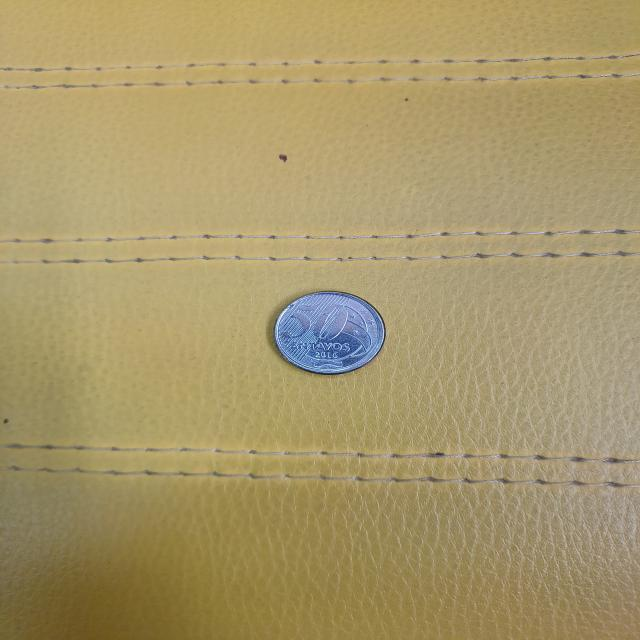50 cents: (272, 288, 386, 376)
